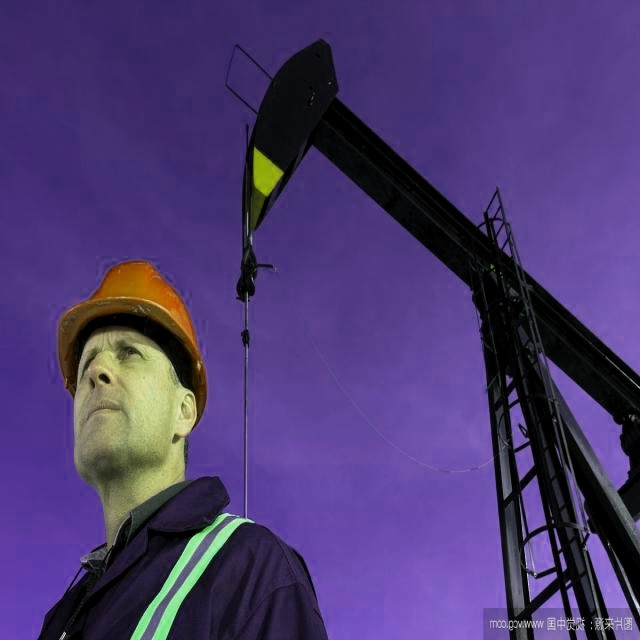Con_Casco: (56, 261, 209, 478)
